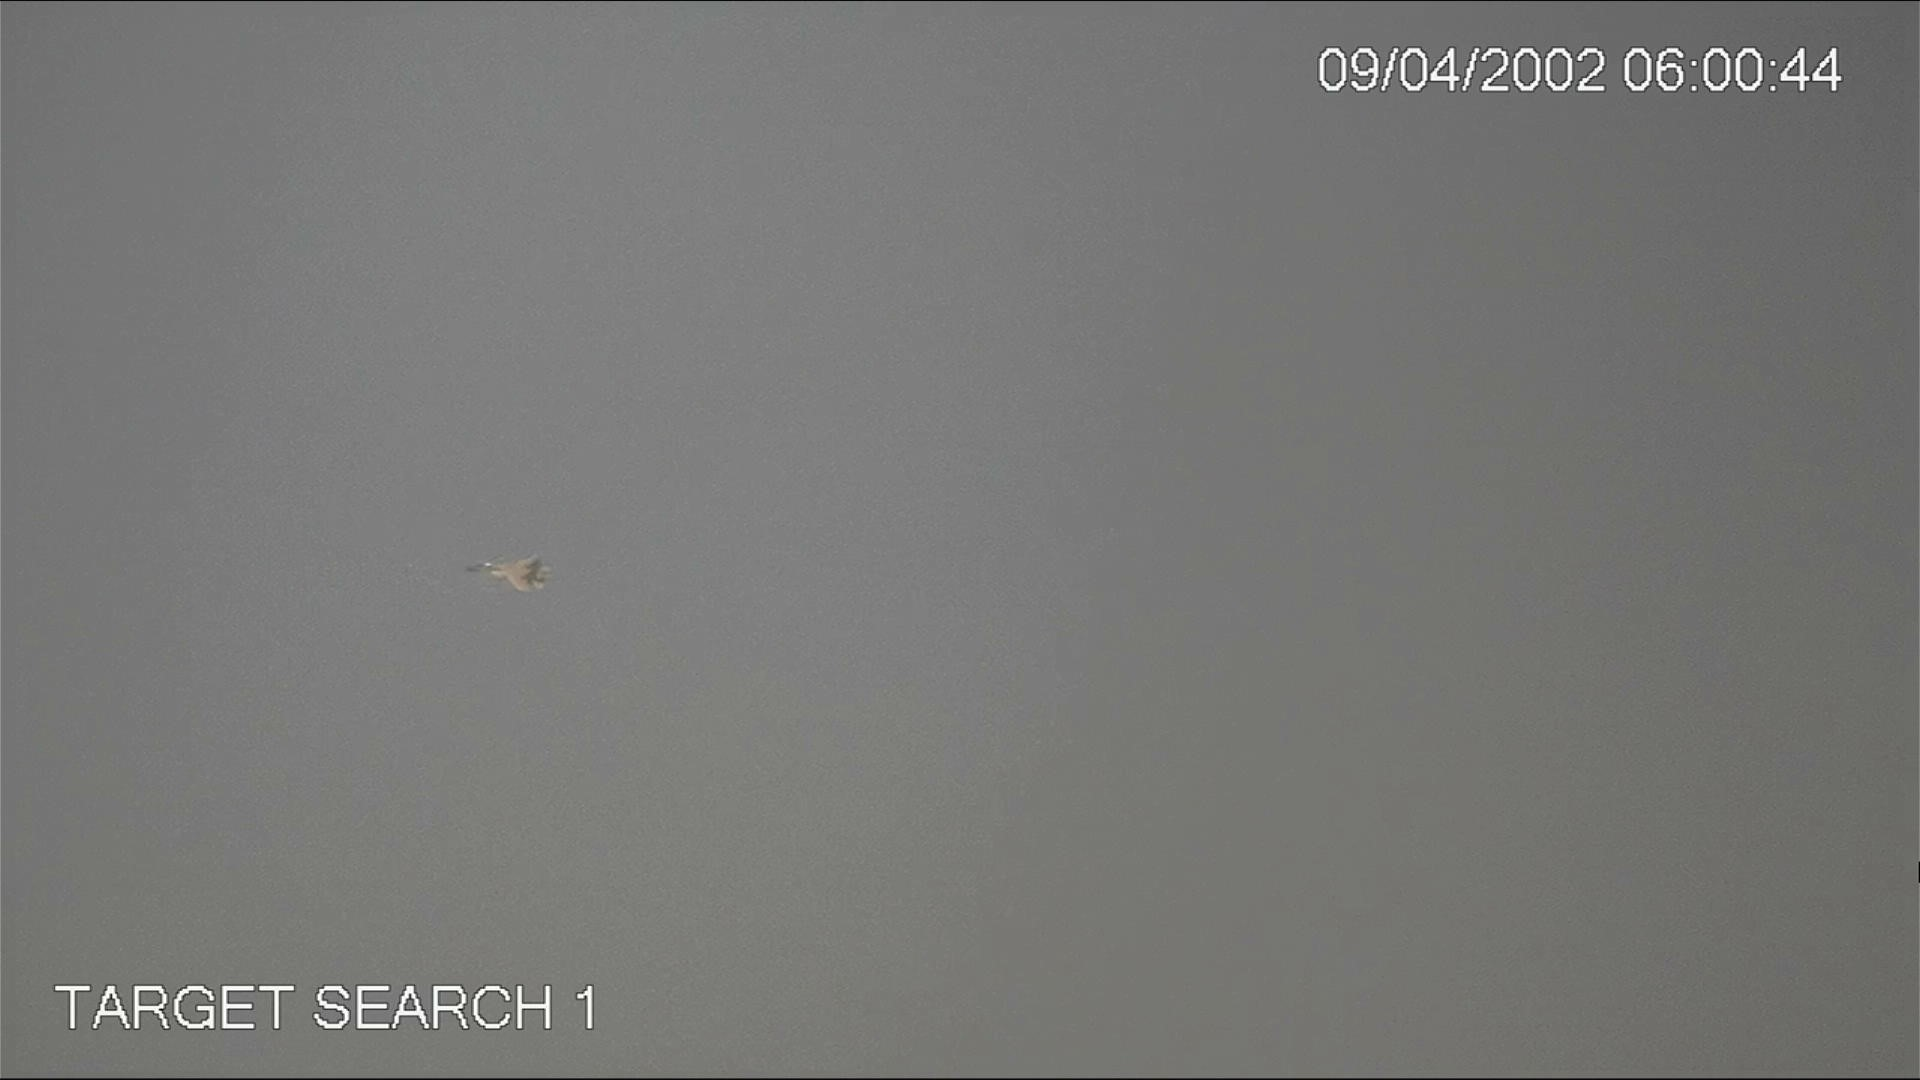SU_30: (467, 551, 550, 596)
